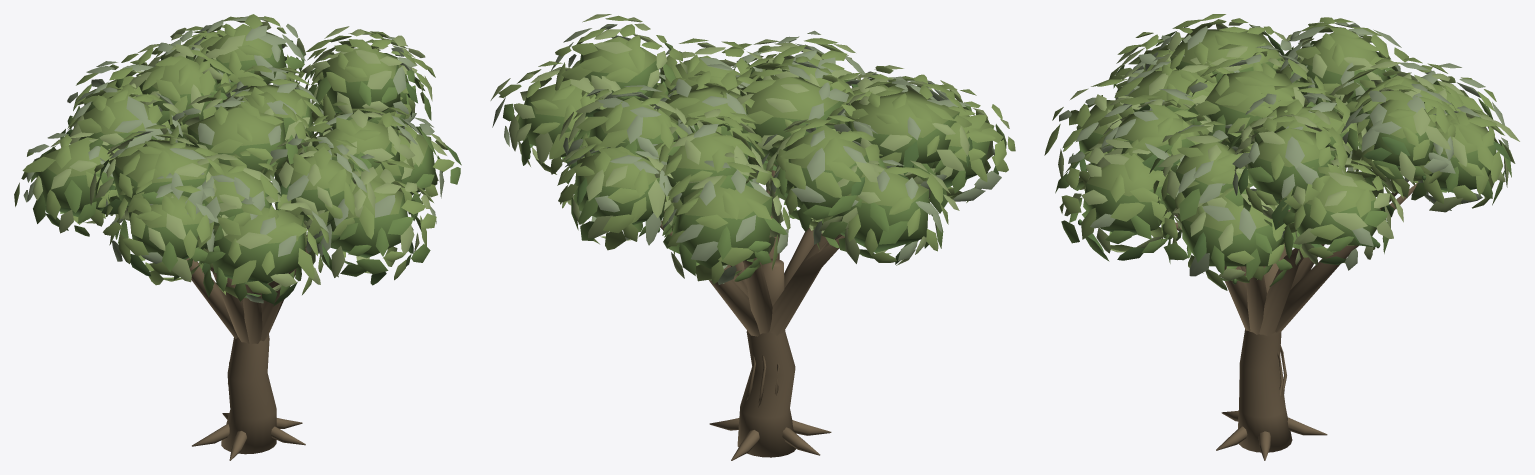
The model's file is olive_tree.glb.
The picture shows the model from 3 angles, left to right: view 1: azimuth 30°, elevation 25°; view 2: azimuth 150°, elevation 25°; view 3: azimuth 270°, elevation 25°; orthographic projection. The views are drawn at different scales.
Parts seen in each view (by area): view 1: OliveTree_Geometry; view 2: OliveTree_Geometry; view 3: OliveTree_Geometry.
Boxes of the visible parts, x1,y1,x2,y2 form: OliveTree_Geometry: [14, 14, 461, 460]; OliveTree_Geometry: [490, 14, 1015, 460]; OliveTree_Geometry: [1044, 14, 1519, 460].
Size of the model in its own units: 5.98 by 5.13 by 5.7.
